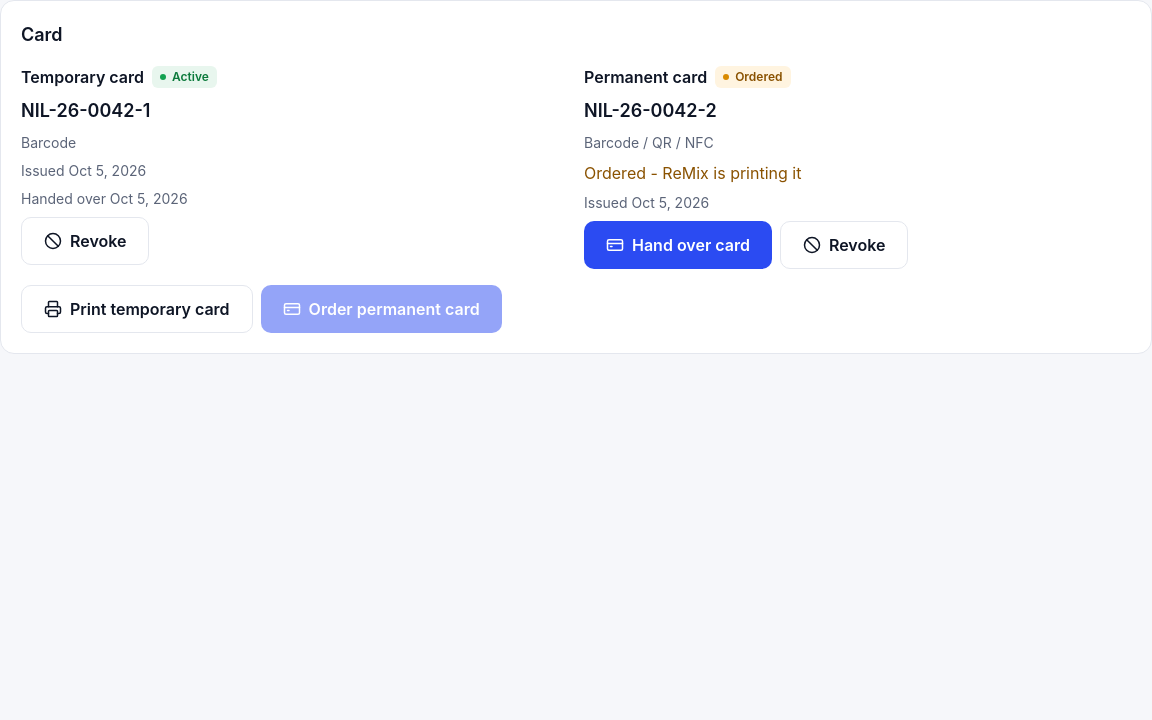
Scenario: STU-06 profile Card section › hands over with an optional UID and shows the retired temporary card in history
The image size is (1152, 720).
Click the button "Hand over card": (678,245) [584,221,772,269]
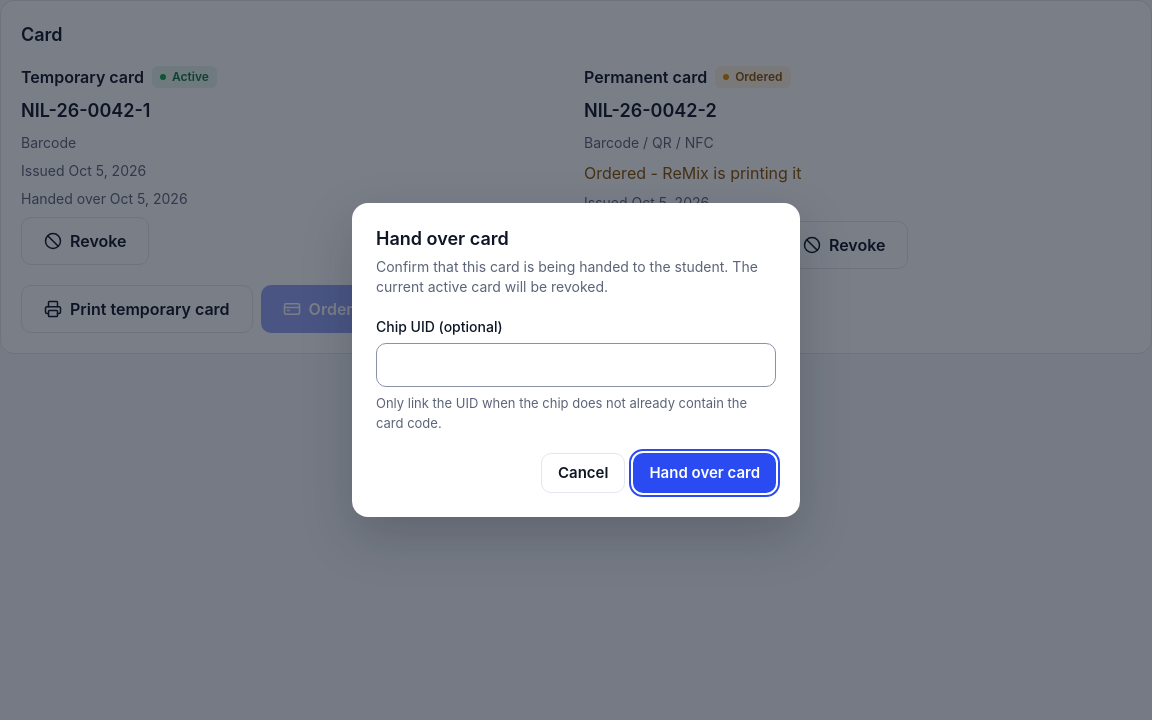
In the field labelled "Chip UID (optional)": (576,365) [376,343,776,387], type "04:a2:1b:9c"
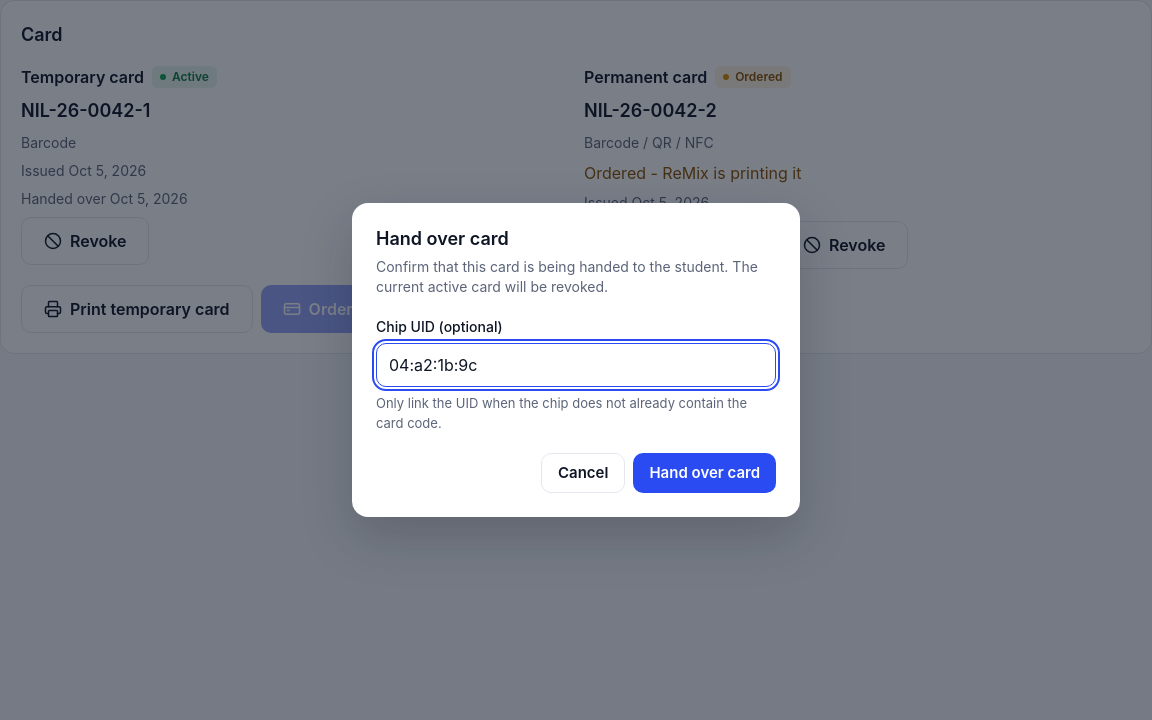
Click the button "Hand over card": (705,473) [633,453,776,493]
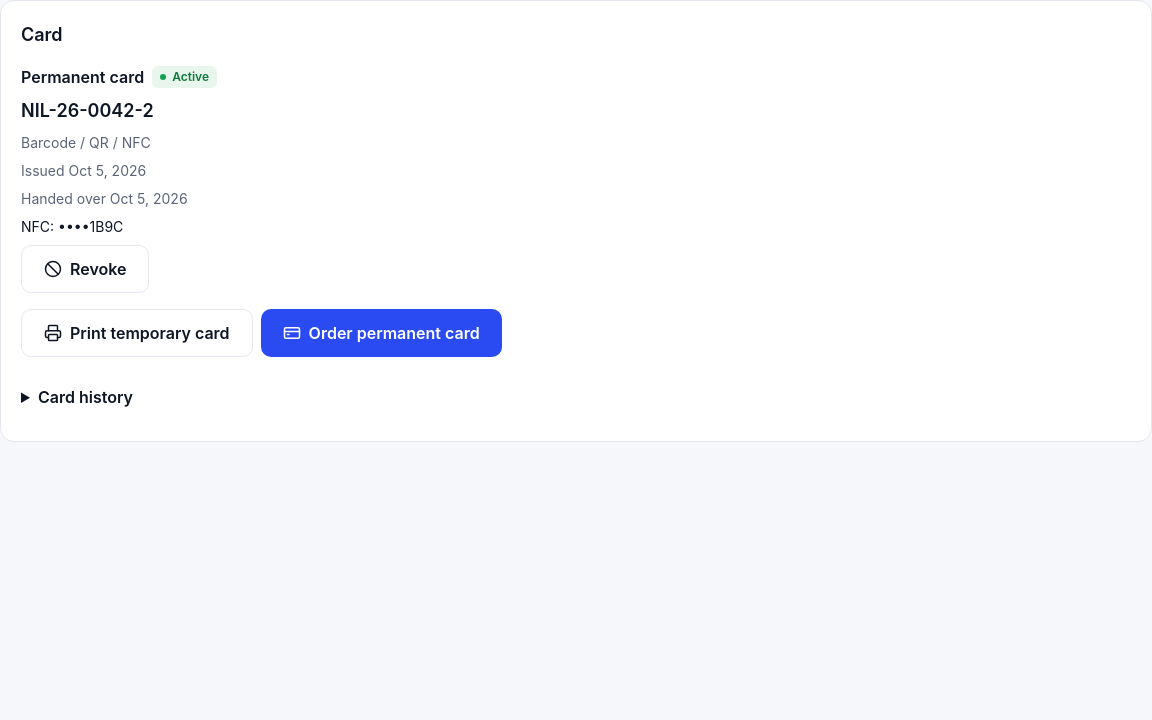
Click the heading "Card history": (85,397) [38,387,133,407]
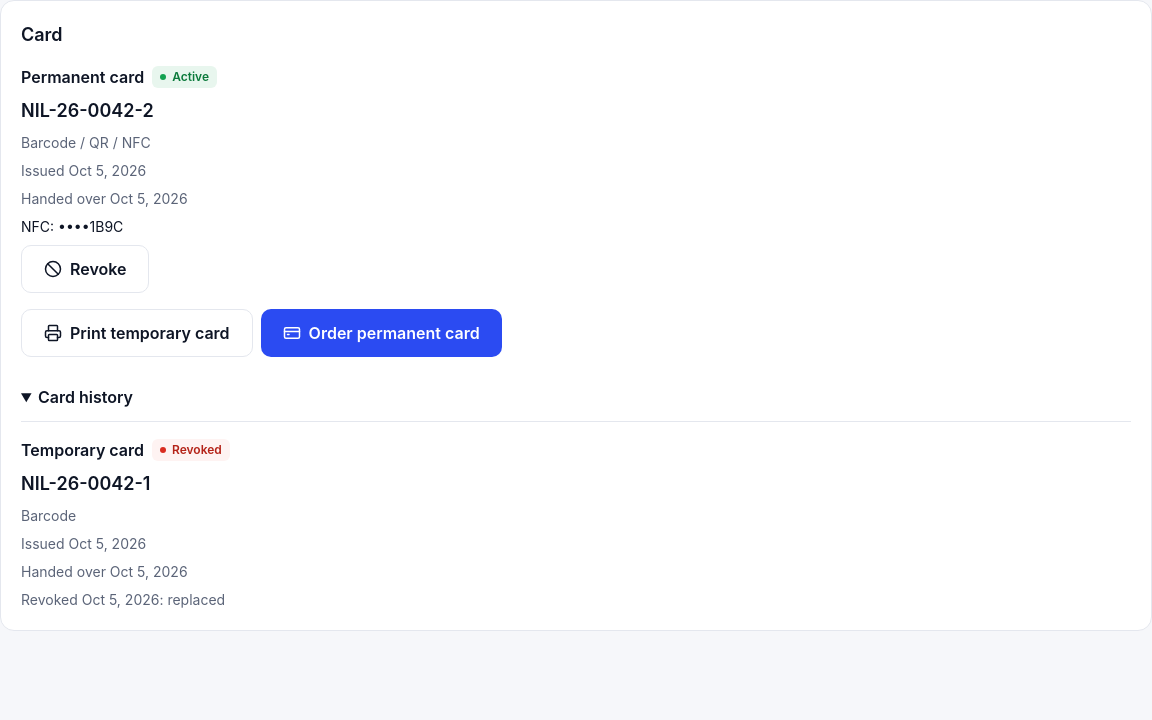
Now the text "Revoked Oct 5, 2026: replaced" is shown, box [21,591,225,608]
